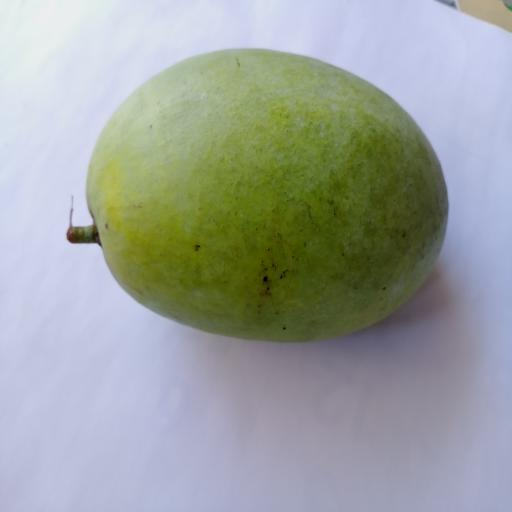mango-unripe: (52, 30, 470, 359)
